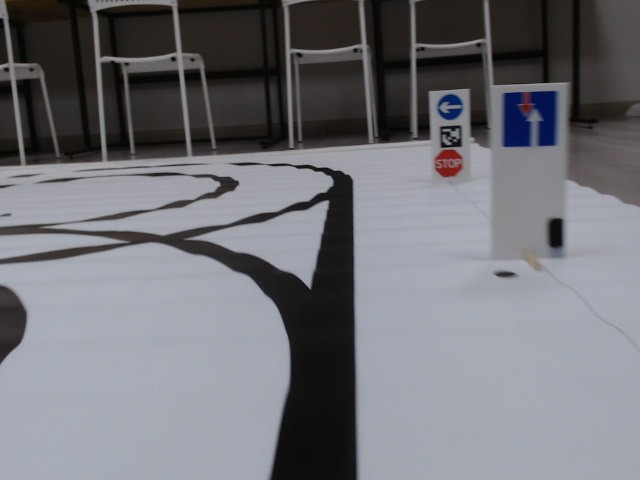Stop: (433, 150, 464, 178)
priority_movement: (496, 89, 561, 149)
